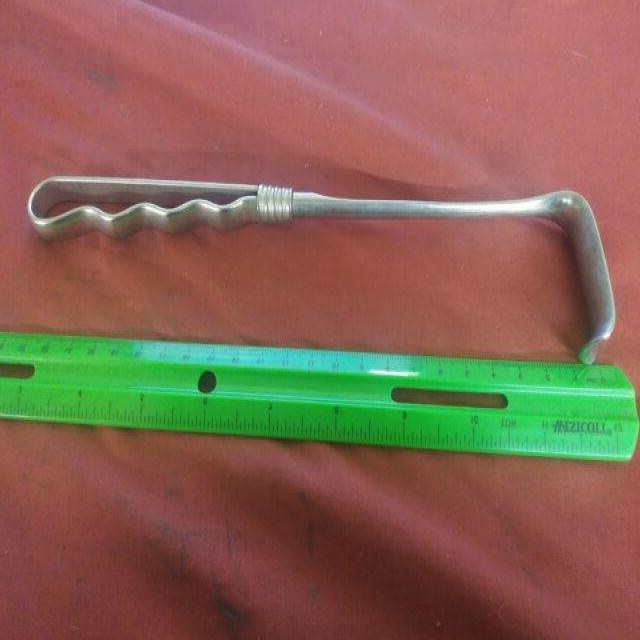Richardson: (21, 168, 619, 372)
